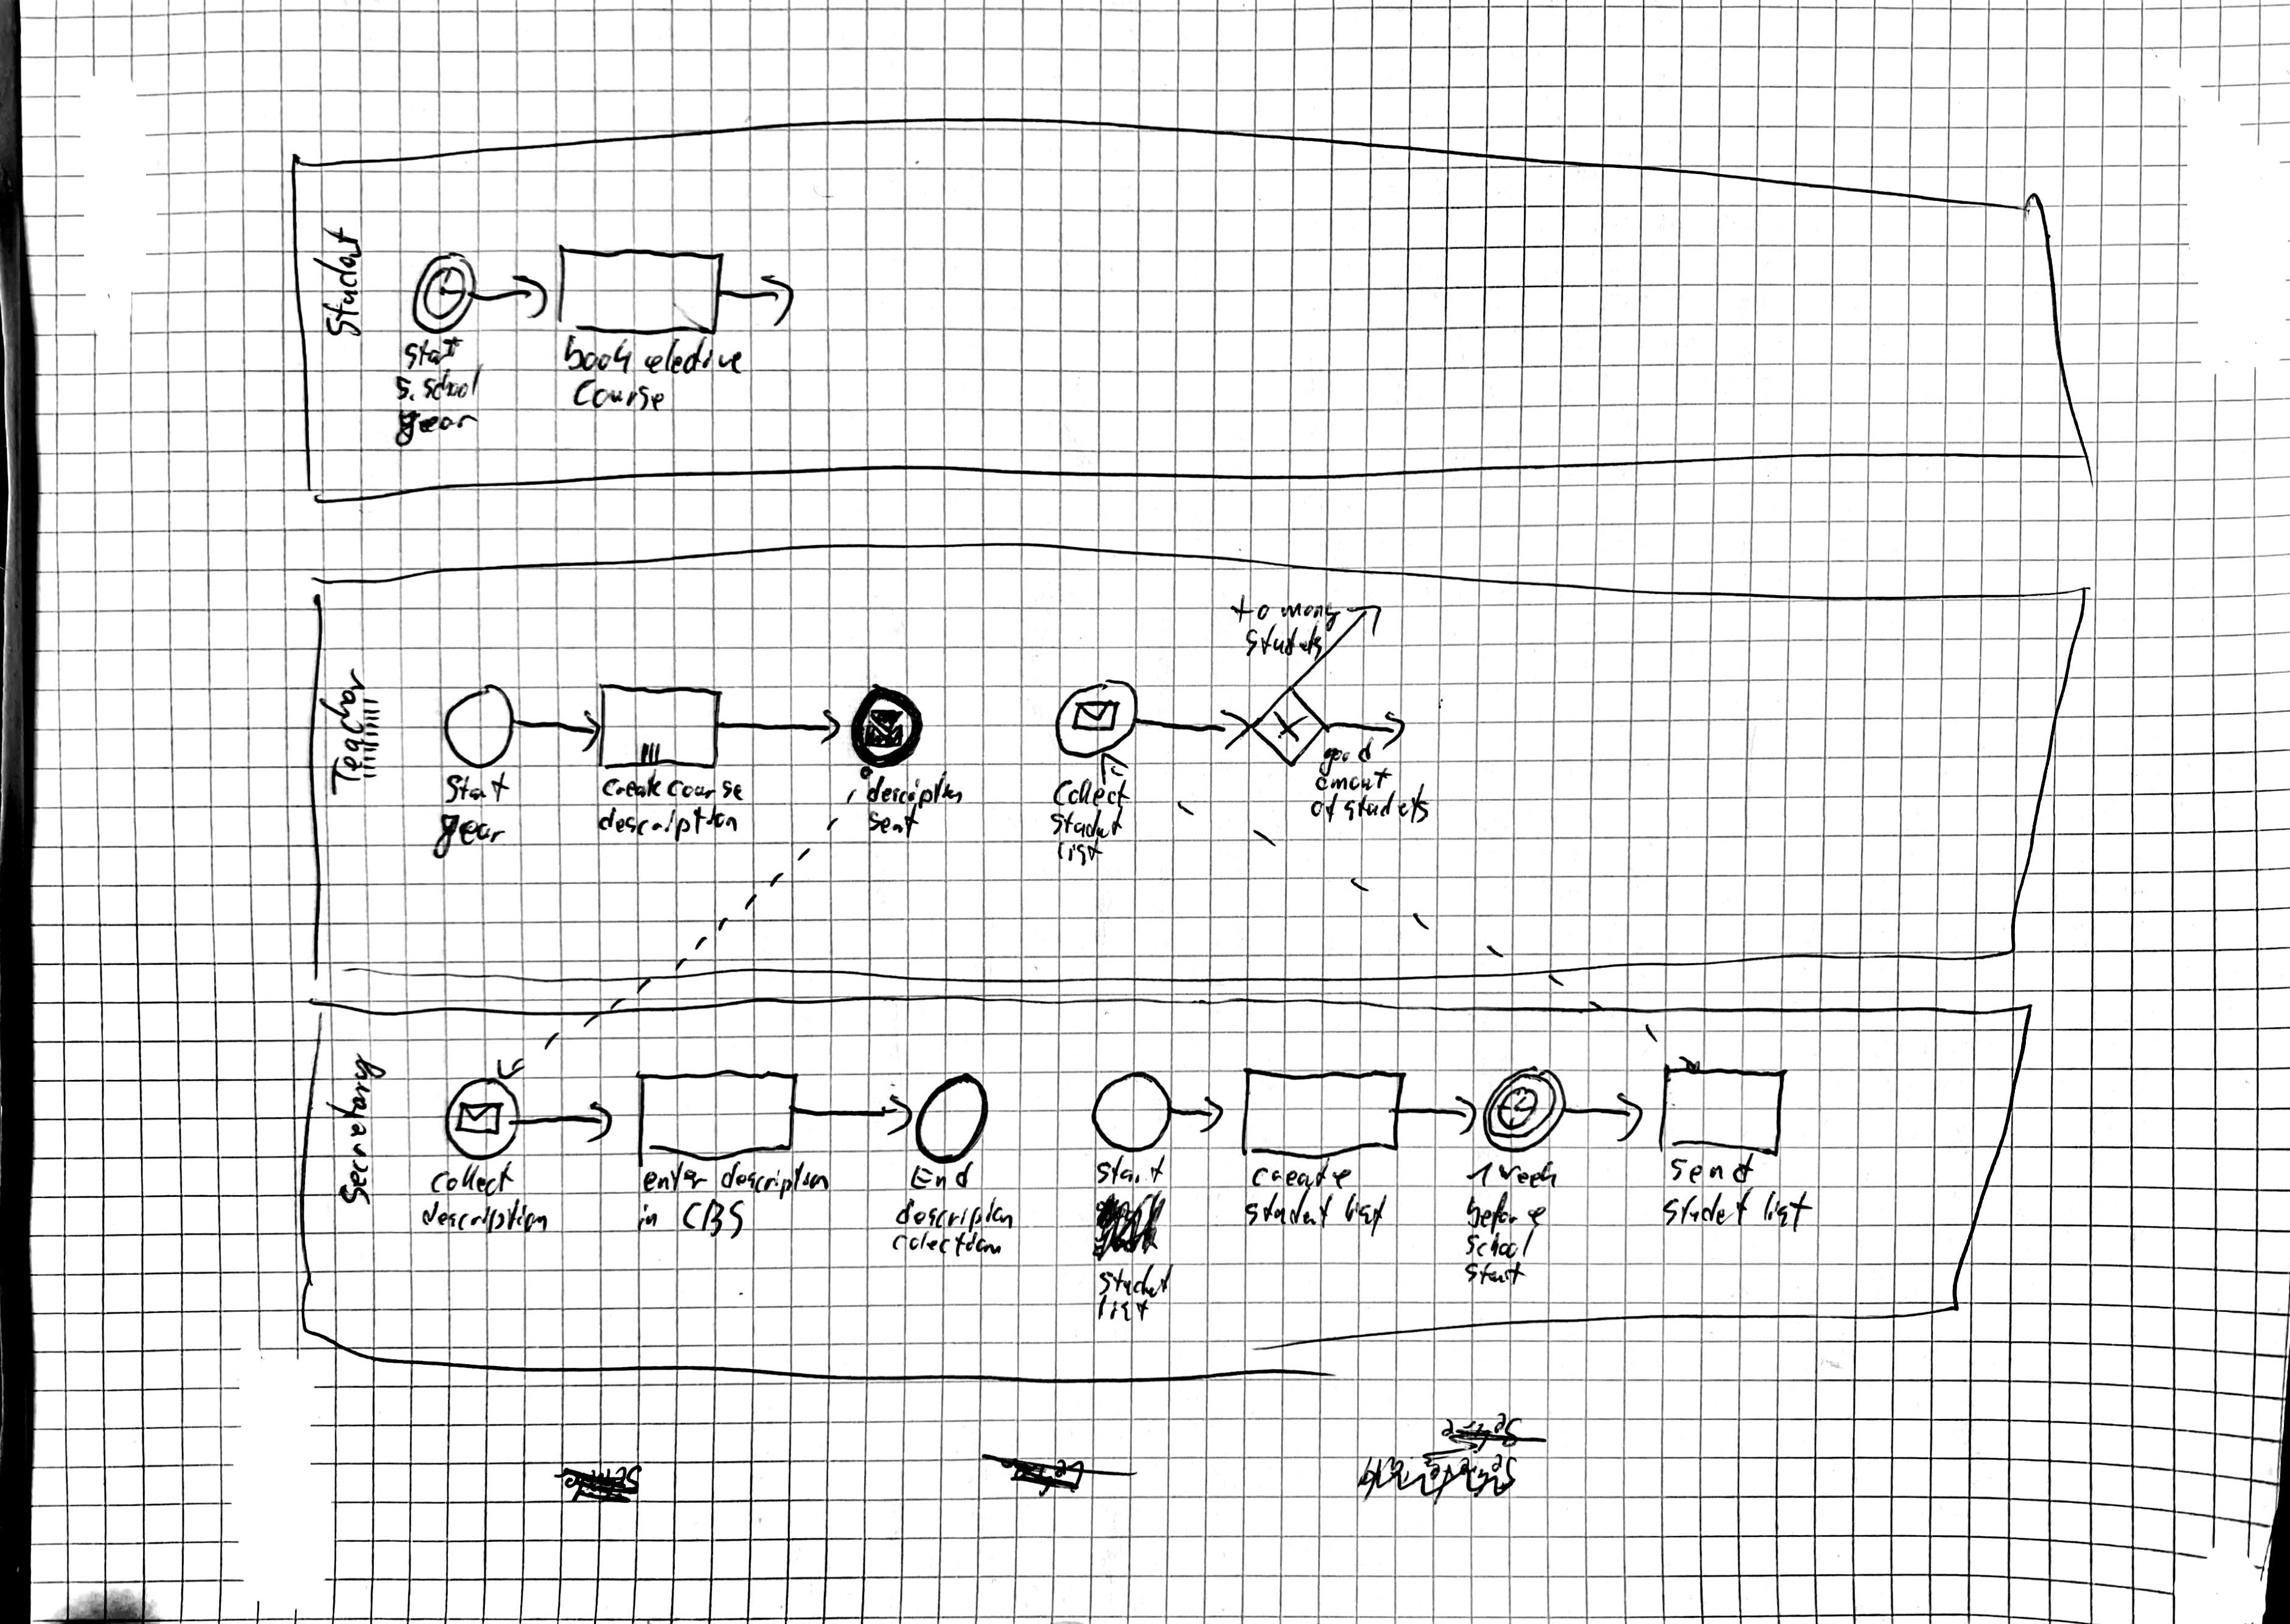1: (1467, 1160, 1496, 1191)
5.: (393, 374, 416, 406)
CBS: (681, 1196, 745, 1239)
Collect: (1050, 779, 1133, 810)
End: (910, 1162, 977, 1191)
III: (637, 741, 663, 768)
Stat: (439, 773, 512, 807)
Student: (317, 226, 366, 341)
Teacher: (319, 654, 363, 800)
amout: (1318, 769, 1390, 793)
before: (1463, 1192, 1546, 1233)
book: (562, 333, 639, 377)
colection: (891, 1227, 1002, 1258)
collect: (427, 1163, 515, 1197)
course: (570, 375, 669, 414), (665, 775, 746, 807)
create: (1251, 1159, 1355, 1193), (601, 769, 659, 806)
description: (419, 1199, 548, 1238), (598, 805, 742, 841), (895, 1197, 1018, 1233), (719, 1159, 830, 1201), (865, 770, 965, 810)
elective: (644, 335, 750, 380)
enter: (638, 1159, 712, 1194)
good: (1318, 737, 1378, 775)
in: (636, 1201, 660, 1237)
list: (1760, 1189, 1814, 1232), (1345, 1193, 1386, 1236), (1092, 1297, 1152, 1325), (1056, 838, 1104, 870)
many: (1278, 597, 1341, 629)
of: (1310, 793, 1338, 824)
school: (417, 364, 485, 406), (1462, 1226, 1539, 1260)
secretary: (329, 1053, 385, 1207)
send: (1670, 1153, 1758, 1187)
sent: (866, 808, 918, 840)
start: (1092, 1152, 1166, 1190), (1466, 1259, 1526, 1289)
stat: (401, 336, 466, 369)
student: (1659, 1186, 1758, 1232), (1246, 1188, 1333, 1234), (1099, 1264, 1170, 1298), (1048, 809, 1123, 840)
students: (1345, 786, 1437, 823), (1243, 624, 1326, 658)
to: (1229, 594, 1276, 626)
week: (1497, 1160, 1557, 1189)
year: (399, 406, 479, 445), (429, 815, 505, 857)
